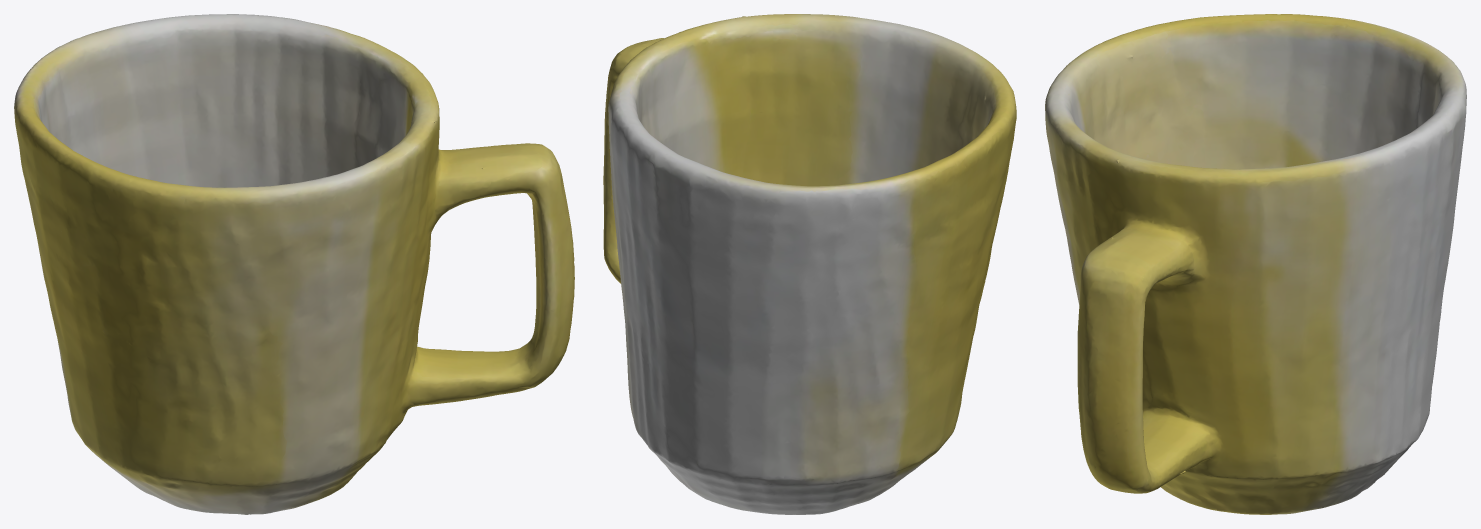
Rendered from Room_Essentials_Mug_White_Yellow.glb.
3 renders of one model, left to right at view 1: azimuth 30°, elevation 25°; view 2: azimuth 150°, elevation 25°; view 3: azimuth 270°, elevation 25°, orthographic.
Parts seen in each view (by area): view 1: geometry_0; view 2: geometry_0; view 3: geometry_0.
Boxes of the visible parts, x1=… form: geometry_0: x1=14, y1=14, x2=574, y2=514; geometry_0: x1=603, y1=14, x2=1016, y2=514; geometry_0: x1=1045, y1=14, x2=1466, y2=514.
Size of the model in its own units: 0.9996 by 0.8108 by 0.8272.
Materials: 1 (1 with a texture image).
